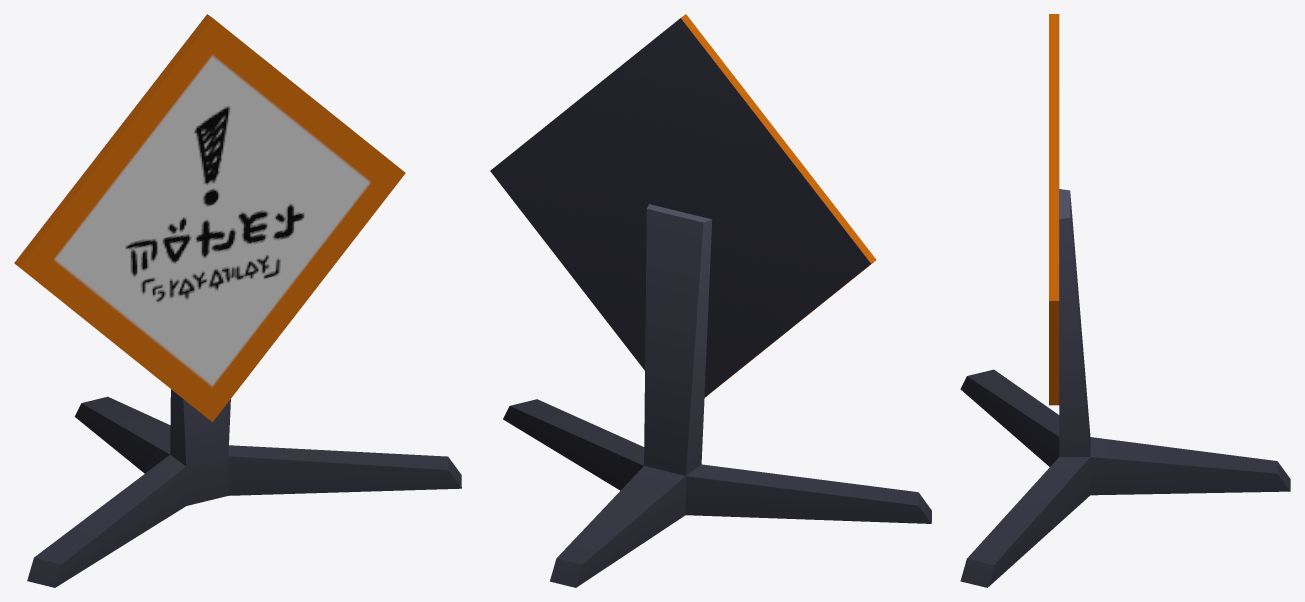
Rendered from Sign.fbx.
3 renders of one model, left to right at view 1: azimuth 30°, elevation 25°; view 2: azimuth 150°, elevation 25°; view 3: azimuth 270°, elevation 25°, orthographic. The views are drawn at different scales.
Parts seen in each view (by area): view 1: Sign; view 2: Sign; view 3: Sign.
Part boxes in pixels (x1,y1,x2,y2): Sign: [14, 14, 461, 587]; Sign: [490, 14, 931, 587]; Sign: [960, 14, 1290, 587].
Size of the model in its own units: 1.53 by 1.63 by 1.04.
Materials: 1 (1 with a texture image).
